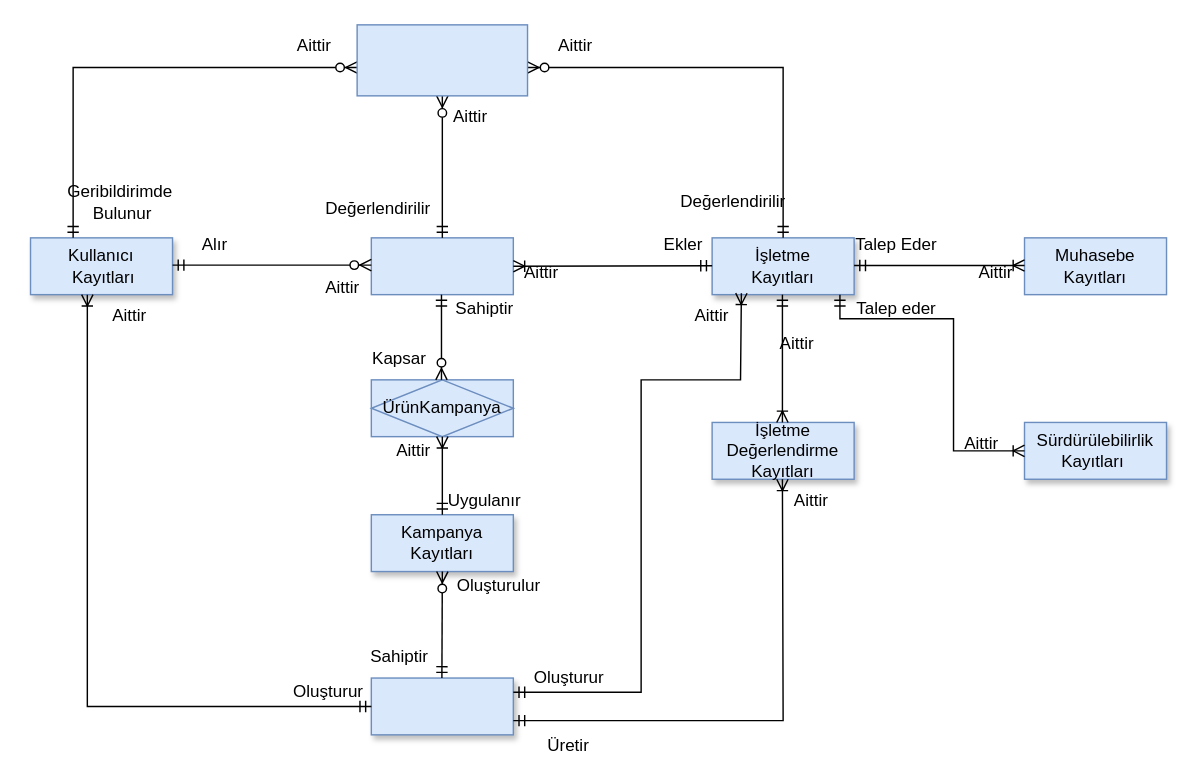
Image size: 1200x781. Some labels were removed from this diagram. The shapes that lost their labels are listed below. From the top down, each one's centre as x and y in pixels, then its label:
At point (442, 59): "Kullanıcı Geri Bildirim Değerlendirme Kayıtları".
At point (441, 265): "Ürün Kayıtları".
At point (443, 708): "Sistem Kayıtları".
